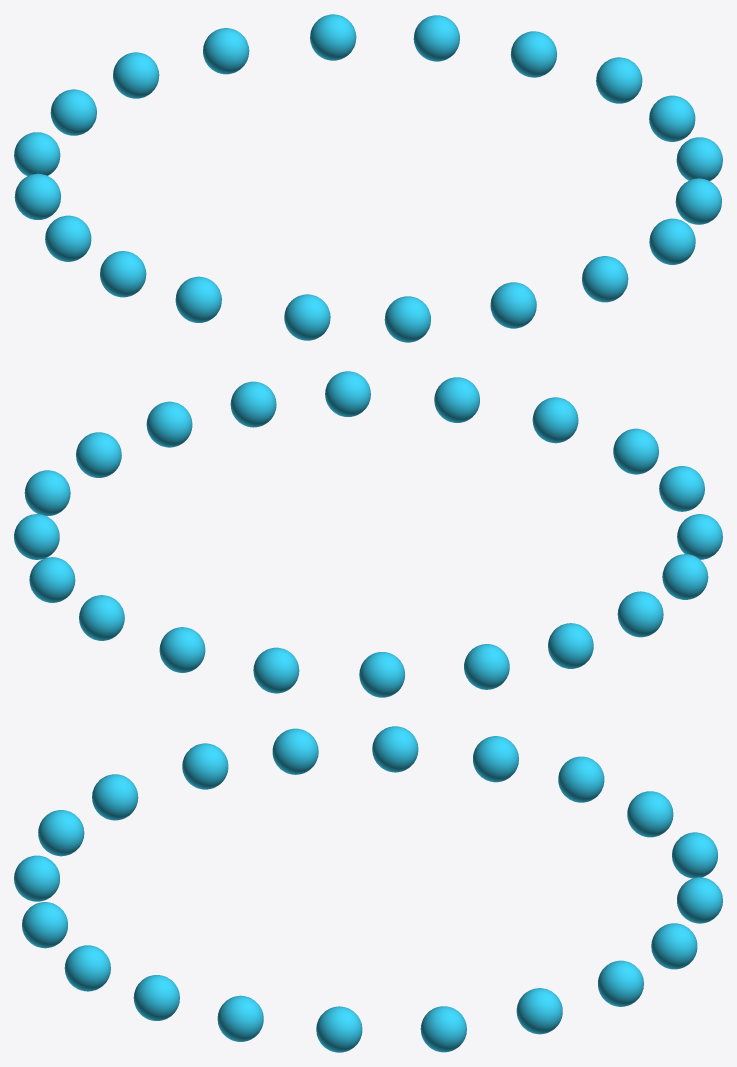
3 views of the same model, one above another, from view 1: azimuth 30°, elevation 25°; view 2: azimuth 150°, elevation 25°; view 3: azimuth 270°, elevation 25° (orthographic).
Visible parts, largest first — view 1: Sphere048; view 2: Sphere048; view 3: Sphere048.
Part boxes in pixels (x1=…): Sphere048: x1=14, y1=14, x2=722, y2=342; Sphere048: x1=14, y1=371, x2=722, y2=697; Sphere048: x1=14, y1=726, x2=722, y2=1052.
Size of the model in its own units: 126 by 8.22 by 126.
